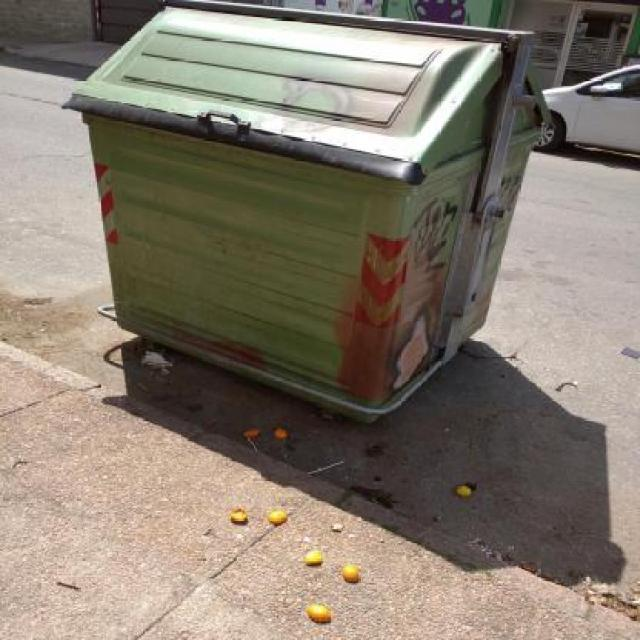garbage: (118, 341, 508, 640)
